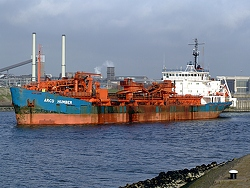rust: (95, 106, 196, 121), (24, 97, 39, 109)
